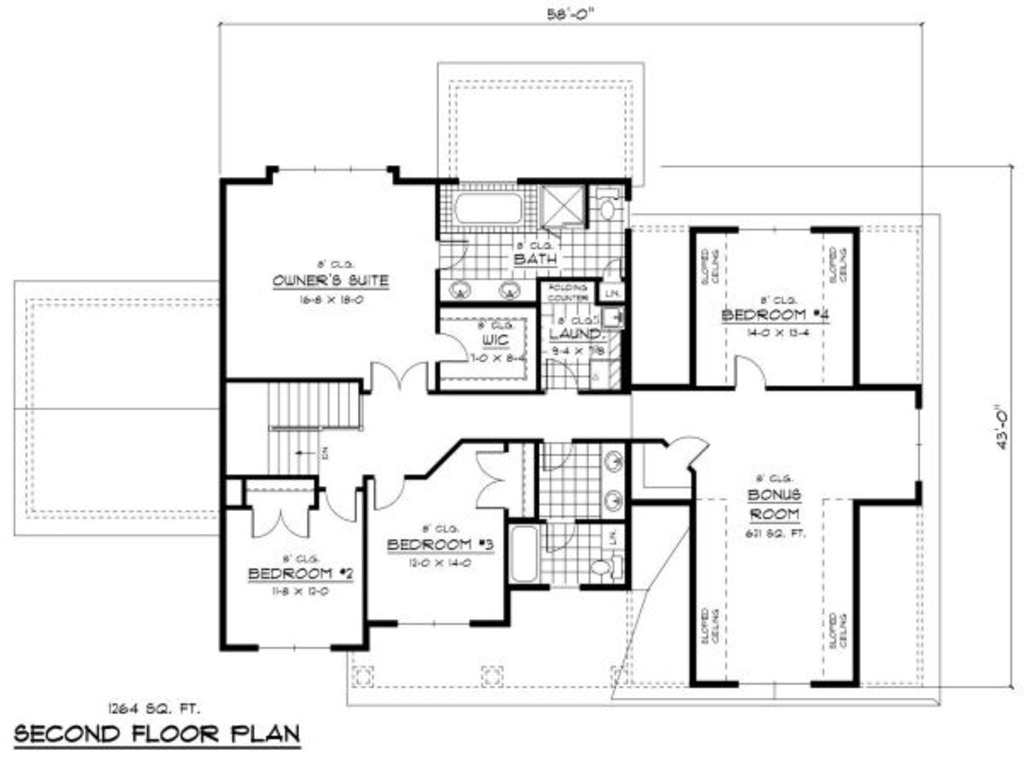door: (367, 358, 439, 396), (471, 448, 508, 515), (248, 506, 312, 540), (318, 488, 368, 523), (731, 349, 768, 396), (669, 431, 711, 465), (372, 477, 405, 513), (540, 440, 577, 471), (436, 334, 469, 362)
large_sink: (592, 178, 623, 225), (584, 553, 622, 581)
small_sink: (436, 275, 535, 305), (599, 438, 630, 517)
tub: (442, 181, 543, 236), (507, 523, 544, 586)
windows: (273, 163, 395, 176), (732, 673, 814, 692), (734, 221, 820, 239), (912, 399, 927, 483)
